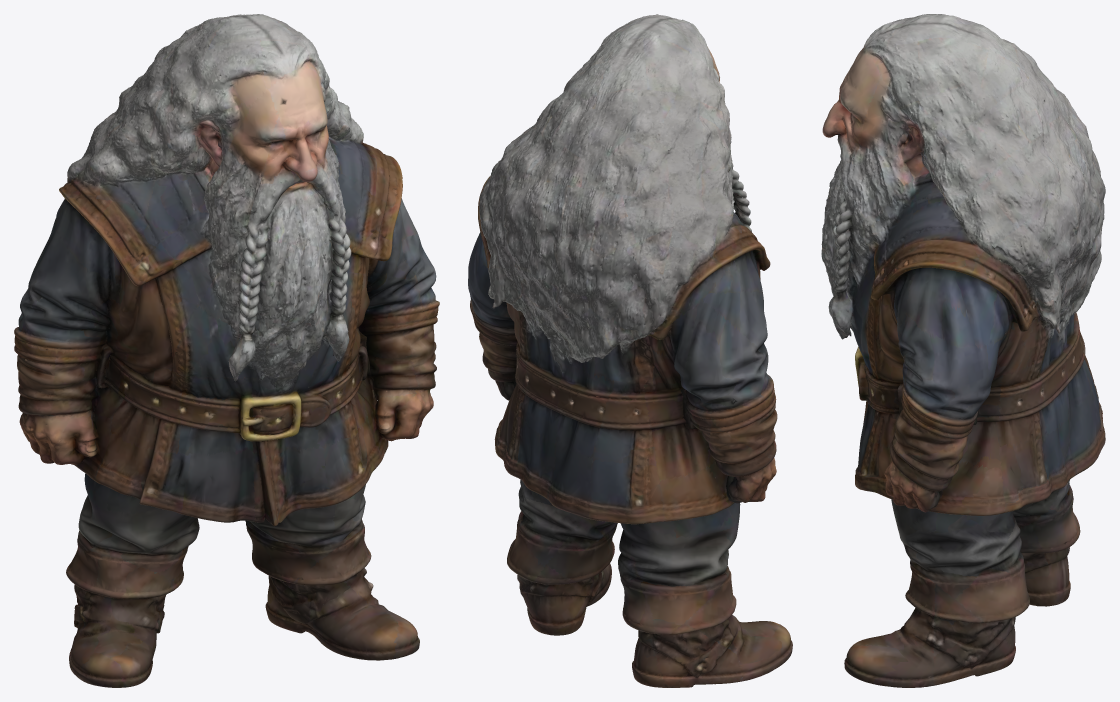
The model's file is dwarf2.glb.
The picture shows the model from 3 angles, left to right: view 1: azimuth 30°, elevation 25°; view 2: azimuth 150°, elevation 25°; view 3: azimuth 270°, elevation 25°; orthographic projection. The views are drawn at different scales.
Size of the model in its own units: 1.14 by 1.9 by 0.8072.
Materials: 1 (1 with a texture image).
